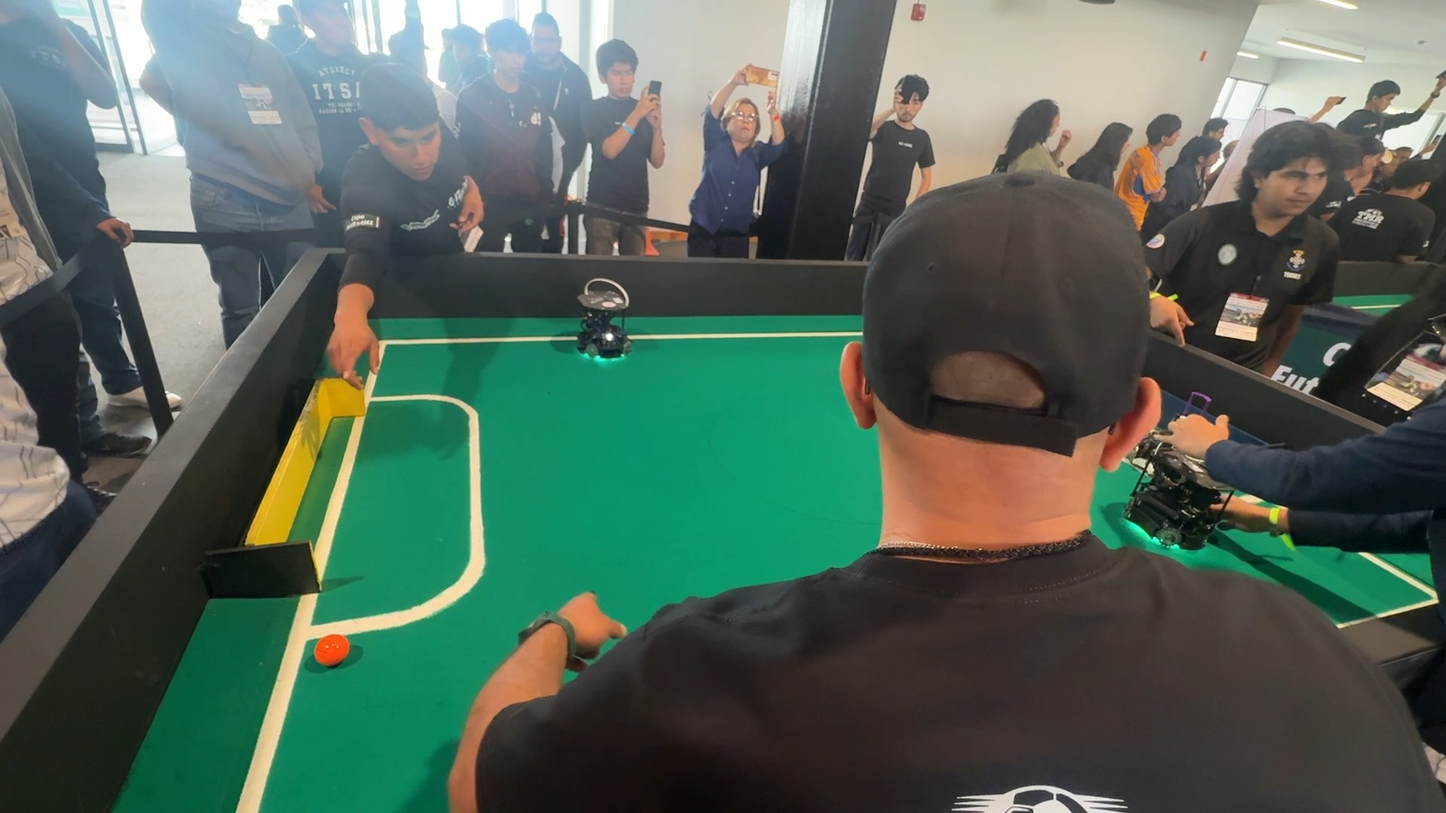Robot: (1100, 429, 1258, 579), (561, 277, 650, 373)
pelota: (309, 632, 364, 676)
